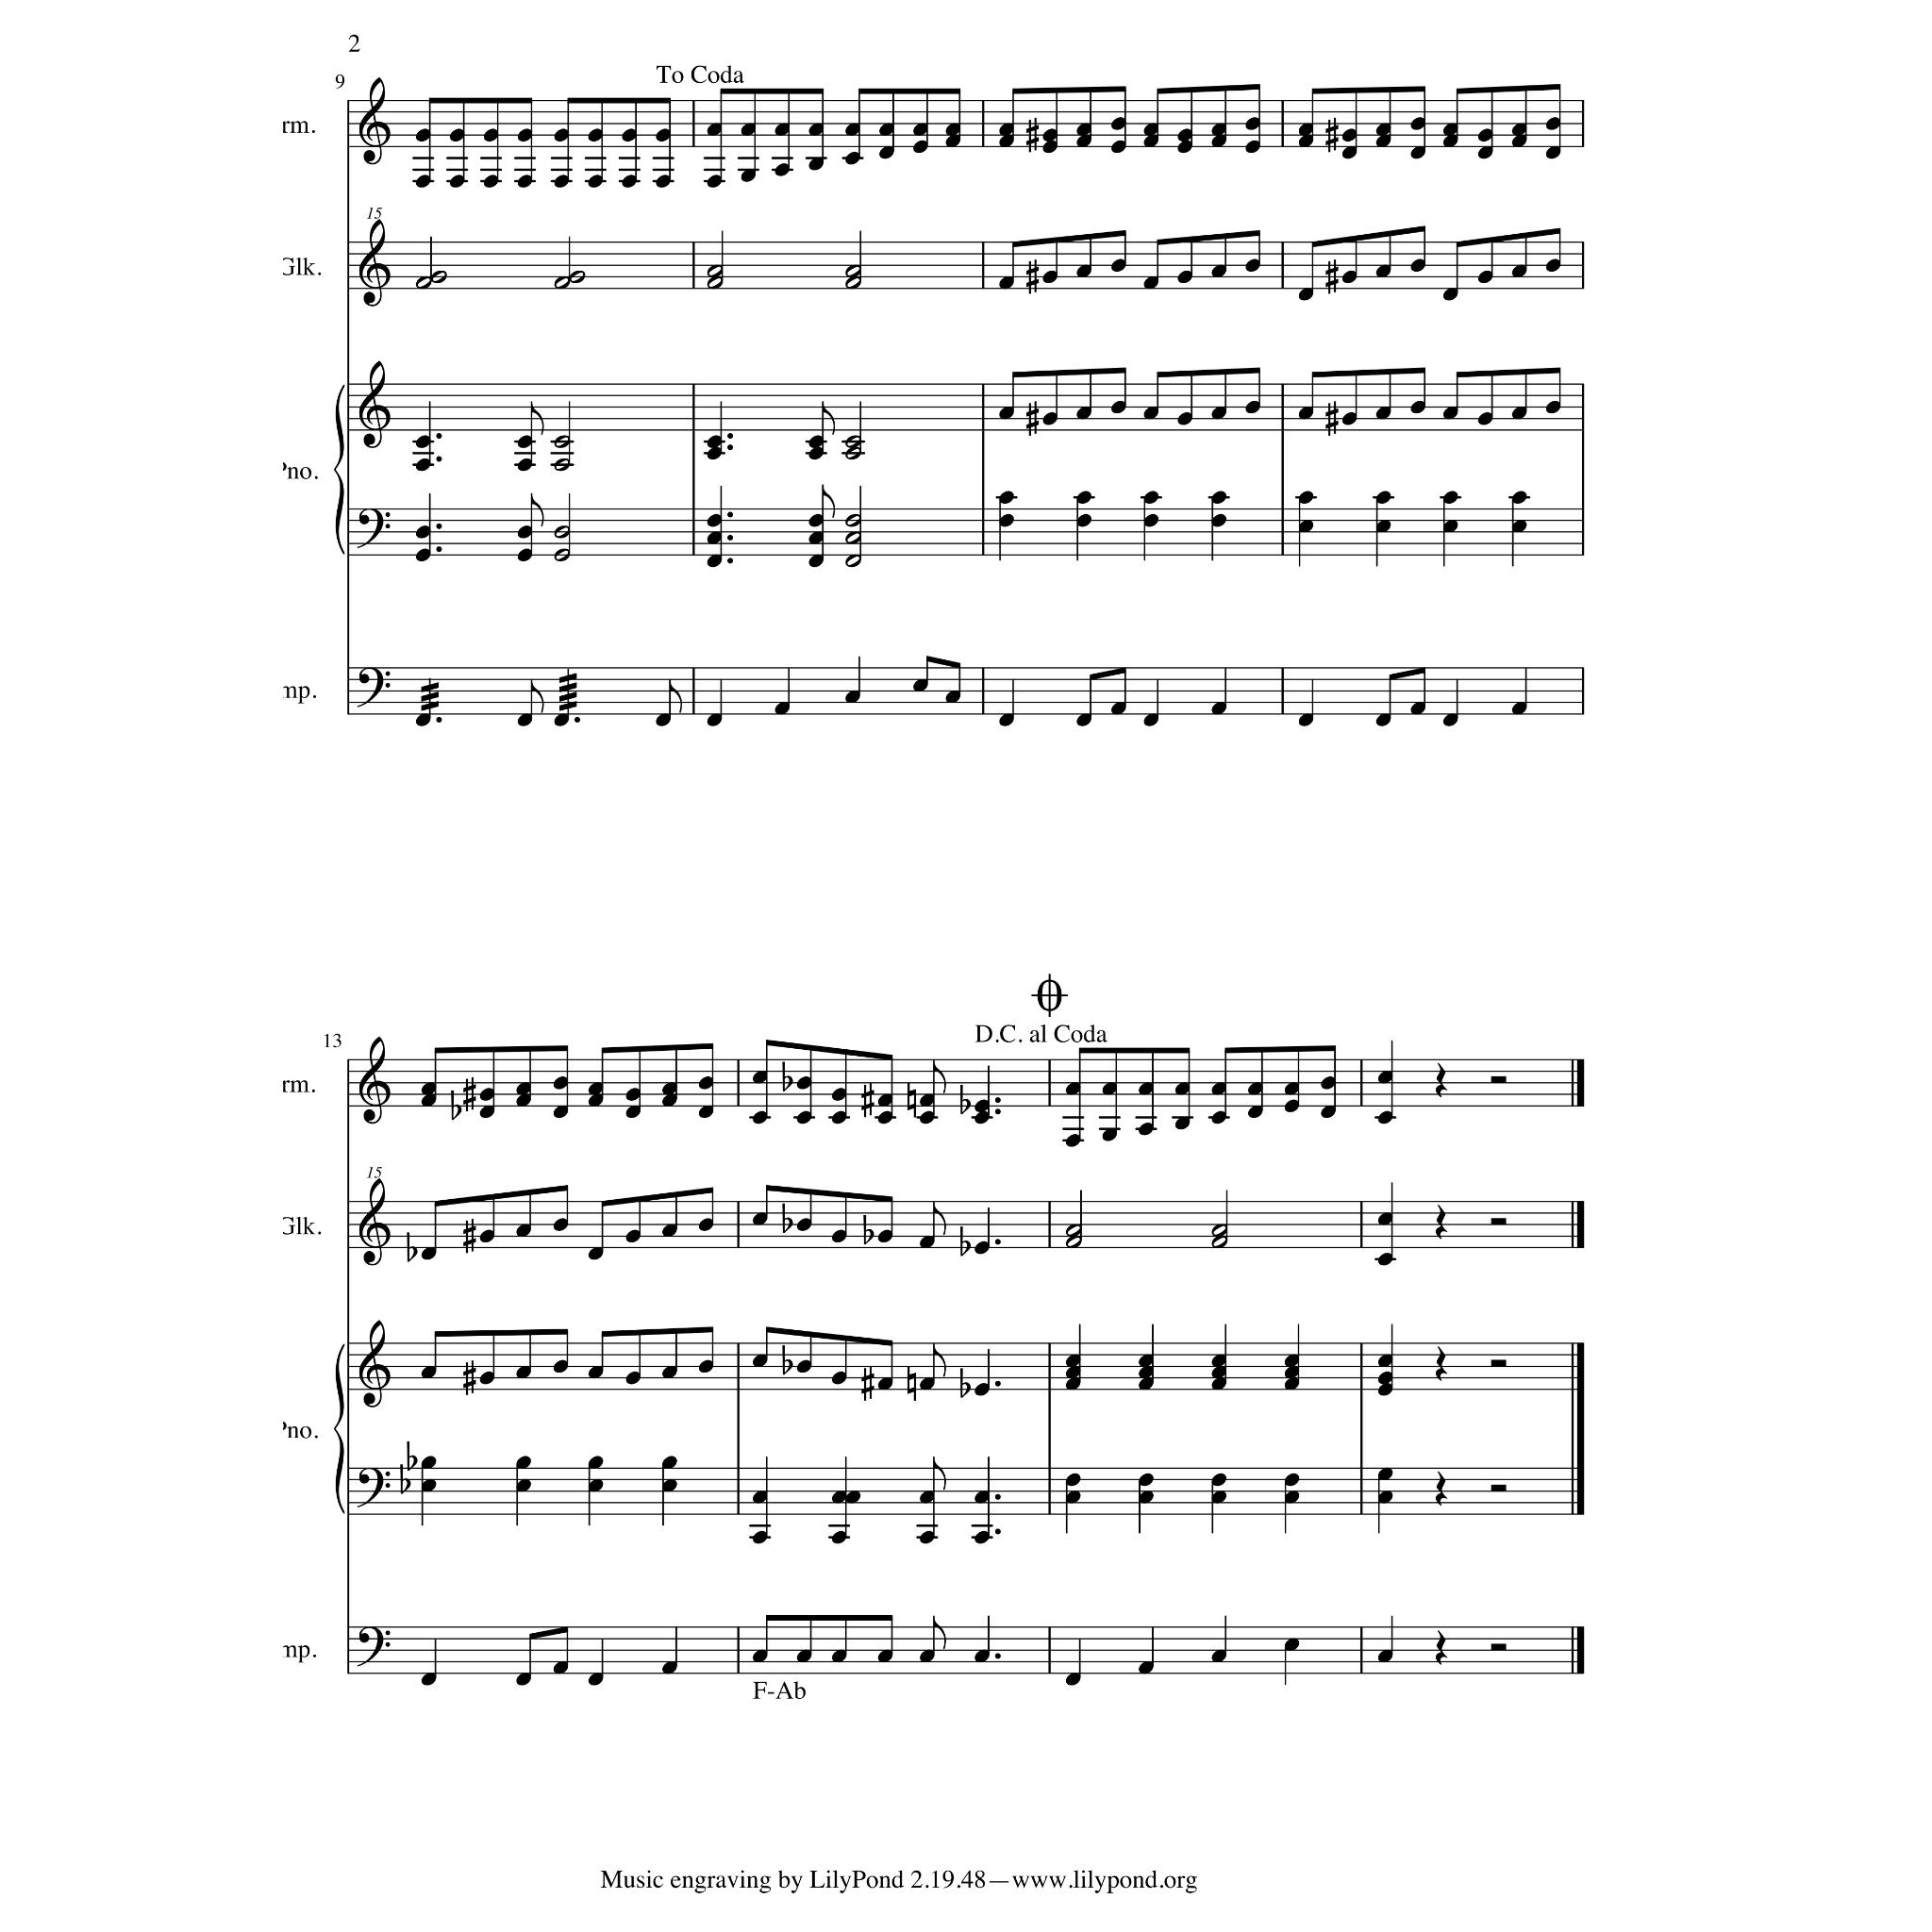brace: (333, 384, 345, 556), (333, 1345, 345, 1514)
fClef: (357, 508, 391, 548), (357, 667, 391, 708), (357, 1467, 391, 1507), (357, 1626, 391, 1667)
flag8thUp: (669, 679, 683, 715), (932, 1615, 947, 1651), (932, 1060, 947, 1095), (821, 402, 835, 435), (821, 485, 835, 518), (932, 1456, 947, 1490), (932, 1201, 947, 1235), (932, 1343, 947, 1376), (531, 679, 543, 715), (531, 402, 543, 435), (531, 494, 543, 527)
gClef: (359, 1035, 391, 1125), (359, 1177, 391, 1267), (359, 361, 391, 449), (359, 76, 391, 165), (359, 219, 391, 308), (359, 1320, 391, 1408)
noteheadBlack: (773, 163, 791, 177), (844, 690, 862, 704), (830, 1111, 847, 1125), (830, 1230, 847, 1244), (830, 1371, 847, 1385), (830, 1530, 847, 1545), (830, 1490, 847, 1504), (844, 1490, 862, 1504), (830, 1649, 847, 1663), (1210, 134, 1226, 149), (1246, 140, 1261, 154), (1246, 258, 1261, 272), (1297, 713, 1313, 727), (1297, 134, 1313, 149), (1111, 140, 1127, 154), (1111, 258, 1127, 272), (1076, 134, 1092, 149), (1076, 713, 1092, 727), (1177, 140, 1192, 154), (1177, 129, 1192, 143), (1143, 134, 1159, 149), (1143, 276, 1159, 290), (1143, 713, 1159, 727), (1545, 258, 1560, 272), (1477, 129, 1493, 143), (1511, 134, 1527, 149), (1375, 134, 1391, 149), (1375, 713, 1391, 727), (1341, 129, 1357, 143), (1444, 134, 1460, 149), (1444, 713, 1460, 727), (1410, 258, 1426, 272), (587, 175, 603, 189), (587, 129, 603, 143), (621, 175, 637, 189), (621, 129, 637, 143), (554, 175, 570, 189), (554, 129, 570, 143), (554, 713, 570, 727), (706, 713, 722, 727), (706, 531, 722, 545), (655, 175, 671, 189), (655, 129, 671, 143), (655, 713, 671, 727), (706, 175, 722, 189), (706, 435, 722, 449), (414, 175, 430, 189), (414, 129, 430, 143), (414, 458, 430, 472), (414, 435, 430, 449), (414, 548, 430, 563), (414, 713, 430, 727), (449, 175, 465, 189), (449, 129, 465, 143), (483, 175, 499, 189), (483, 129, 499, 143), (517, 175, 533, 189), (517, 129, 533, 143), (517, 458, 533, 472), (517, 435, 533, 449), (517, 548, 533, 563), (517, 713, 533, 727), (998, 134, 1014, 149), (998, 276, 1014, 290), (945, 690, 961, 704), (998, 713, 1014, 727), (913, 140, 929, 154), (945, 134, 961, 149), (1042, 140, 1058, 154), (1042, 129, 1058, 143), (809, 157, 824, 172), (809, 435, 824, 449), (809, 531, 824, 545), (740, 168, 755, 182), (1210, 1111, 1226, 1125), (1210, 1376, 1226, 1391), (1175, 1116, 1191, 1131), (1138, 1353, 1154, 1368), (1138, 1490, 1154, 1504), (1138, 1366, 1154, 1380), (1138, 1376, 1154, 1391), (975, 1111, 991, 1125), (975, 1099, 991, 1113), (920, 1376, 936, 1391), (920, 1111, 936, 1125), (920, 1235, 936, 1249), (975, 1530, 991, 1545), (920, 1530, 936, 1545), (920, 1490, 936, 1504), (920, 1649, 936, 1663), (1065, 1376, 1081, 1391), (1065, 1366, 1081, 1380), (1065, 1353, 1081, 1368), (1065, 1490, 1081, 1504), (975, 1490, 991, 1504), (975, 1649, 991, 1663), (1065, 1672, 1081, 1686), (1283, 1490, 1299, 1504), (1283, 1099, 1299, 1113), (1283, 1376, 1299, 1391), (1283, 1366, 1299, 1380), (1283, 1353, 1299, 1368), (1283, 1637, 1299, 1651), (1210, 1353, 1226, 1368), (1210, 1490, 1226, 1504), (1210, 1649, 1226, 1663), (1320, 1076, 1336, 1090), (1210, 1366, 1226, 1380), (1378, 1111, 1394, 1125), (1378, 1070, 1394, 1085), (1378, 1253, 1394, 1267), (1378, 1212, 1394, 1226), (1378, 1371, 1394, 1385), (1378, 1353, 1394, 1368), (1378, 1490, 1394, 1504), (1378, 1467, 1394, 1481), (1378, 1649, 1394, 1663), (552, 1076, 568, 1090), (552, 1217, 568, 1231), (552, 1361, 568, 1375), (515, 1366, 531, 1380), (515, 1479, 531, 1493), (515, 1672, 531, 1686), (625, 1230, 640, 1244), (625, 1371, 640, 1385), (587, 1672, 603, 1686), (587, 1366, 603, 1380), (587, 1479, 603, 1493), (421, 1366, 437, 1380), (421, 1479, 437, 1493), (421, 1672, 437, 1686), (479, 1230, 495, 1244), (479, 1371, 495, 1385), (796, 1111, 812, 1125), (796, 1076, 812, 1090), (796, 1217, 812, 1231), (796, 1361, 812, 1375), (796, 1649, 812, 1663), (878, 1111, 893, 1125), (878, 1230, 893, 1244), (878, 1376, 893, 1391), (878, 1649, 893, 1663), (662, 1366, 678, 1380), (662, 1479, 678, 1493), (752, 1490, 768, 1504), (752, 1070, 768, 1085), (752, 1111, 768, 1125), (752, 1212, 768, 1226), (752, 1353, 768, 1368), (752, 1530, 768, 1545), (752, 1649, 768, 1663), (773, 124, 791, 136), (773, 702, 791, 715), (844, 124, 862, 136), (844, 152, 862, 165), (830, 1088, 847, 1100), (699, 1076, 713, 1090), (699, 1217, 713, 1231), (699, 1361, 713, 1375), (1246, 119, 1261, 131), (1246, 402, 1261, 414), (1210, 515, 1226, 527), (1210, 702, 1226, 715), (1210, 492, 1226, 504), (1210, 407, 1226, 419), (1210, 265, 1226, 278), (1210, 124, 1226, 136), (1297, 124, 1313, 136), (1297, 288, 1313, 301), (1297, 407, 1313, 419), (1297, 520, 1313, 533), (1297, 492, 1313, 504), (1111, 702, 1127, 715), (1111, 119, 1127, 131), (1111, 402, 1127, 414), (1076, 124, 1092, 136), (1076, 265, 1092, 278), (1076, 407, 1092, 419), (1076, 515, 1092, 527), (1076, 492, 1092, 504), (1177, 271, 1192, 283), (1177, 412, 1192, 425), (1143, 124, 1159, 136), (1143, 407, 1159, 419), (1143, 515, 1159, 527), (1143, 492, 1159, 504), (1511, 702, 1527, 715), (1545, 147, 1560, 159), (1545, 119, 1560, 131), (1545, 402, 1560, 414), (1477, 147, 1493, 159), (1477, 271, 1493, 283), (1477, 412, 1493, 425), (1511, 124, 1527, 136), (1511, 265, 1527, 278), (1511, 407, 1527, 419), (1511, 520, 1527, 533), (1511, 492, 1527, 504), (1375, 124, 1391, 136), (1375, 265, 1391, 278), (1375, 407, 1391, 419), (1375, 520, 1391, 533), (1375, 492, 1391, 504), (1341, 147, 1357, 159), (1341, 271, 1357, 283), (1341, 412, 1357, 425), (1444, 124, 1460, 136), (1444, 288, 1460, 301), (1444, 407, 1460, 419), (1444, 520, 1460, 533), (1444, 492, 1460, 504), (1410, 147, 1426, 159), (1410, 119, 1426, 131), (1410, 402, 1426, 414), (1410, 702, 1426, 715), (706, 515, 722, 527), (706, 124, 722, 136), (706, 448, 722, 460), (706, 556, 722, 568), (414, 525, 430, 538), (517, 525, 533, 538), (998, 407, 1014, 419), (998, 124, 1014, 136), (998, 515, 1014, 527), (998, 492, 1014, 504), (913, 679, 929, 692), (878, 147, 893, 159), (878, 124, 893, 136), (913, 124, 929, 136), (945, 124, 961, 136), (1042, 271, 1058, 283), (1042, 412, 1058, 425), (740, 124, 755, 136), (809, 124, 824, 136), (809, 448, 824, 460), (809, 556, 824, 568), (809, 515, 824, 527), (1210, 1083, 1226, 1095), (1138, 1474, 1154, 1486), (1138, 1661, 1154, 1674), (1175, 1083, 1191, 1095), (1102, 1129, 1118, 1141), (1102, 1083, 1118, 1095), (1138, 1123, 1154, 1136), (1138, 1083, 1154, 1095), (975, 1242, 991, 1254), (975, 1384, 991, 1396), (920, 1093, 936, 1106), (1065, 1134, 1081, 1146), (1065, 1083, 1081, 1095), (1065, 1474, 1081, 1486), (1247, 1106, 1263, 1118), (1247, 1083, 1263, 1095), (1283, 1083, 1299, 1095), (1283, 1474, 1299, 1486), (1210, 1474, 1226, 1486), (1320, 1106, 1336, 1118), (1378, 1384, 1394, 1396), (552, 1106, 568, 1118), (552, 1661, 568, 1674), (515, 1093, 531, 1106), (515, 1083, 531, 1095), (515, 1224, 531, 1237), (515, 1456, 531, 1468), (625, 1106, 640, 1118), (625, 1088, 640, 1100), (587, 1093, 603, 1106), (587, 1083, 603, 1095), (587, 1247, 603, 1260), (587, 1456, 603, 1468), (421, 1093, 437, 1106), (421, 1083, 437, 1095), (421, 1247, 437, 1260), (421, 1456, 437, 1468), (479, 1106, 495, 1118), (479, 1088, 495, 1100), (878, 1093, 893, 1106), (662, 1093, 678, 1106), (662, 1083, 678, 1095), (662, 1224, 678, 1237), (662, 1456, 678, 1468), (662, 1661, 678, 1674), (699, 1106, 713, 1118)
noteheadHalf: (552, 276, 570, 290), (552, 458, 570, 472), (552, 435, 570, 449), (552, 548, 570, 563), (706, 276, 724, 290), (844, 276, 862, 290), (844, 435, 862, 449), (844, 531, 862, 545), (1065, 1235, 1083, 1249), (416, 276, 432, 290), (1212, 1235, 1228, 1249), (568, 271, 586, 283), (552, 525, 570, 538), (706, 265, 724, 278), (430, 271, 448, 283), (844, 265, 862, 278), (844, 448, 862, 460), (844, 556, 862, 568), (844, 515, 862, 527), (1065, 1224, 1083, 1237), (1212, 1224, 1228, 1237)
restHalf: (1490, 1076, 1506, 1085), (1490, 1217, 1506, 1226), (1490, 1359, 1506, 1368), (1490, 1484, 1506, 1491), (1490, 1644, 1506, 1651)
restQuarter: (1435, 1203, 1447, 1240), (1435, 1346, 1447, 1382), (1435, 1063, 1447, 1097), (1435, 1472, 1447, 1506), (1435, 1631, 1447, 1665)
